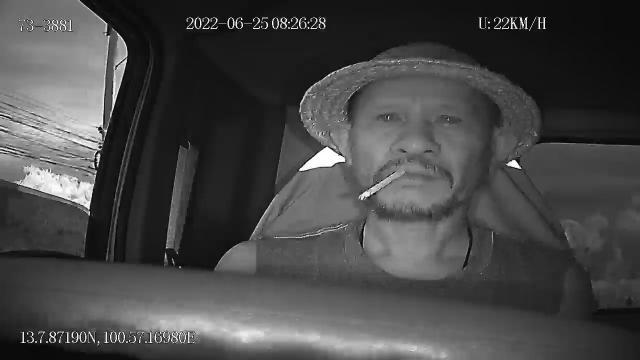SafeDriving: (428, 103, 468, 132), (370, 100, 408, 130)
Smoking: (359, 168, 405, 199)
